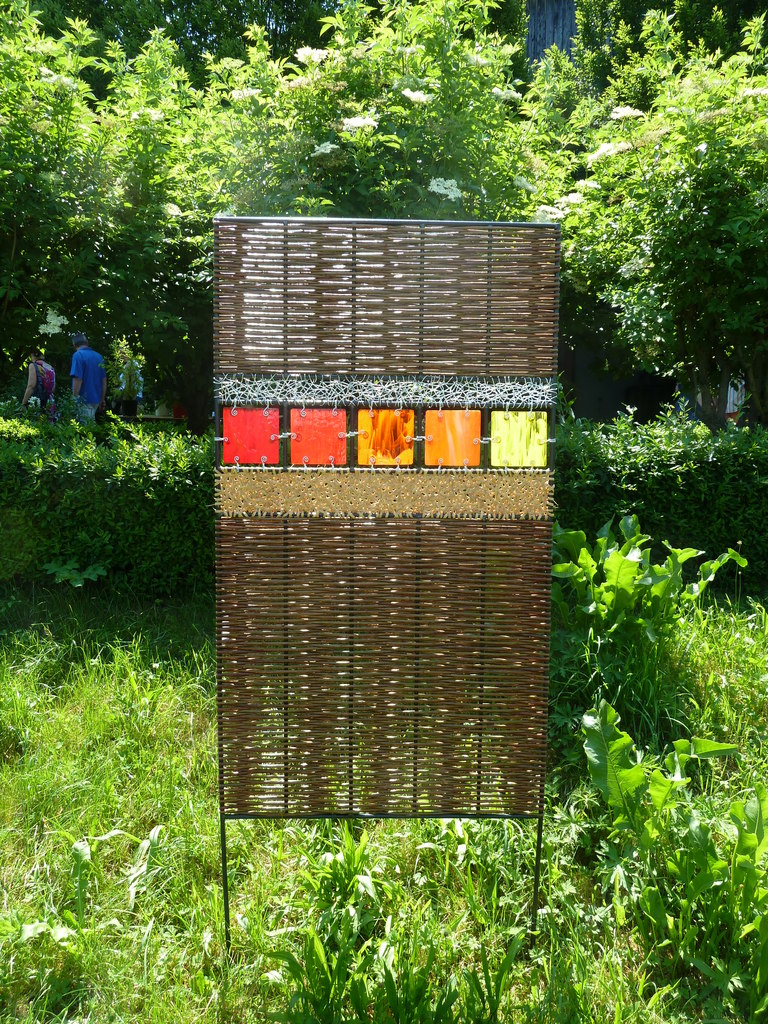Tree: (0, 0, 768, 435)
